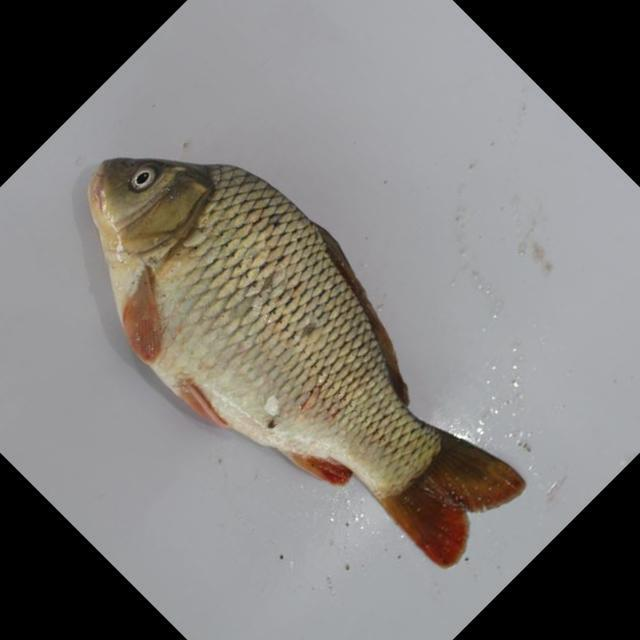CommonCarp: (84, 145, 527, 570)
